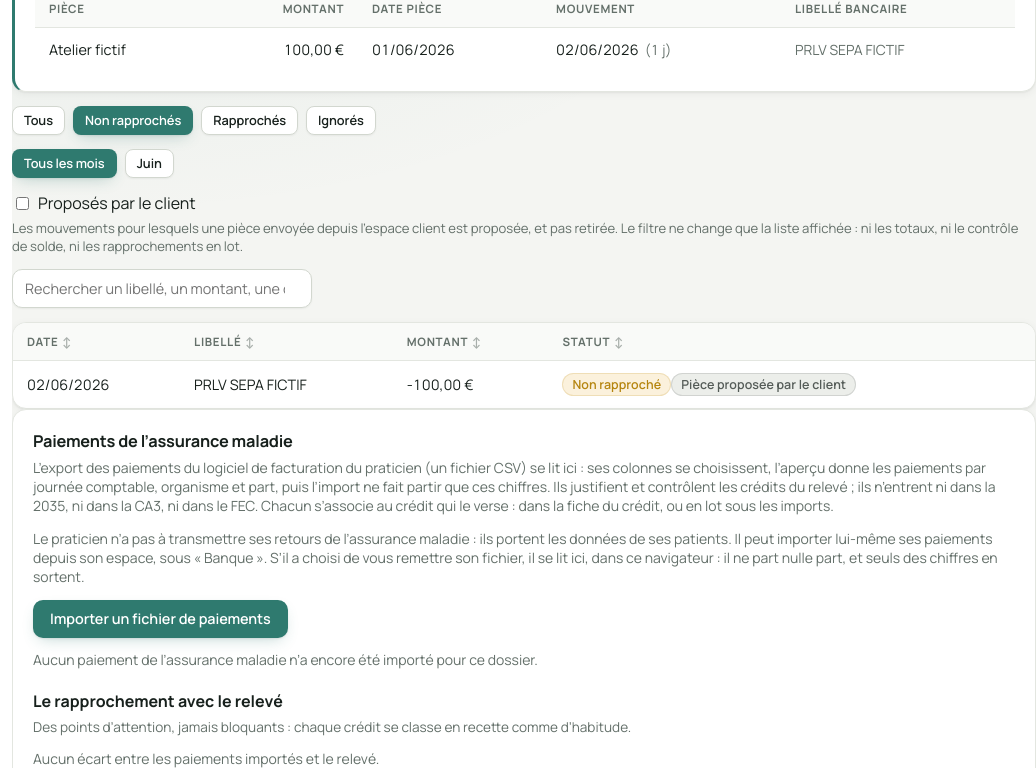
Scenario: « Écarter cette proposition » : offert sur la pièce proposée par le client › confirmée : retirer_proposition seule, puis la relecture montre la proposition retirée et le mouvement « Sans justificatif »
The image size is (1036, 768).
(page scrolled)
Click the text "PRLV SEPA FICTIF" in the row of "Pièce proposée par le client": (286, 384) [180,360,393,408]
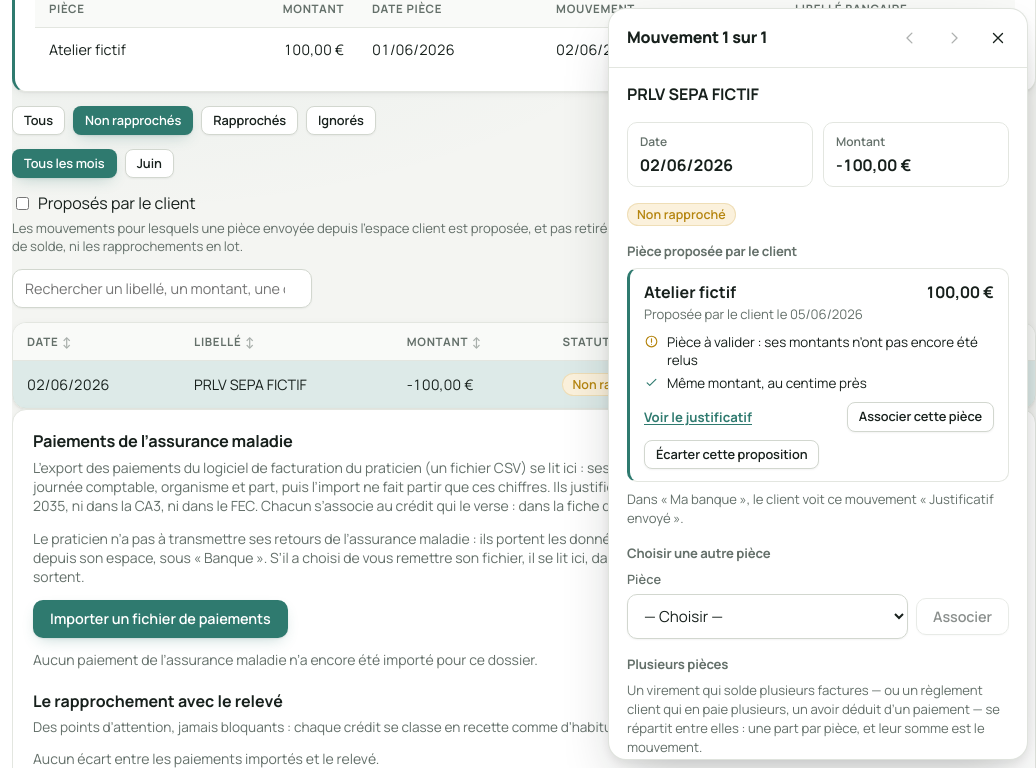
Click the button "Écarter cette proposition": (732, 454) [644,440,819,469]
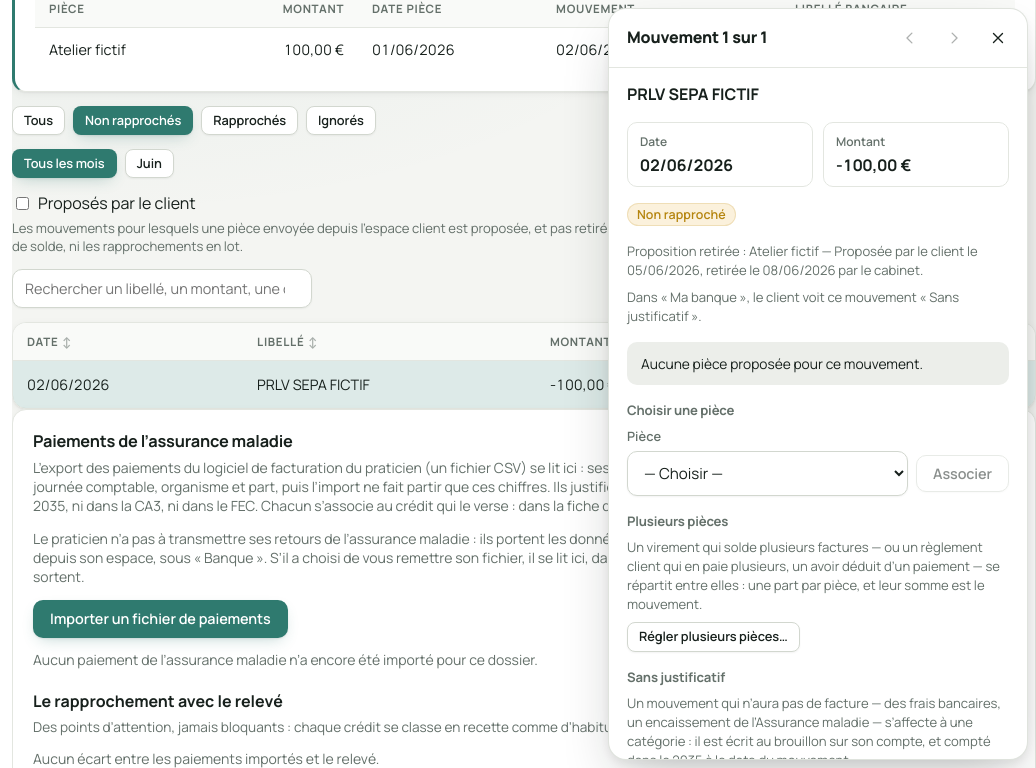
Expected: the button "Écarter cette proposition" is gone
Expected: the text "Pièce proposée par le client" is gone
Expected: the text "Proposition retirée :" shows "Proposition retirée : Atelier fictif — Proposée par le client le 05/06/2026, retirée le 08/06/2026 par le cabinet.", [627,242,1009,280]
